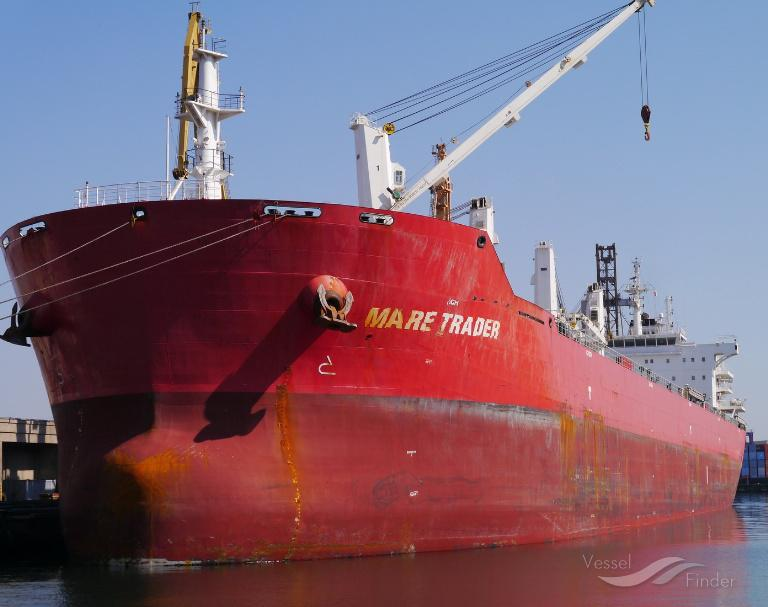OCR: (366, 301, 516, 348)
